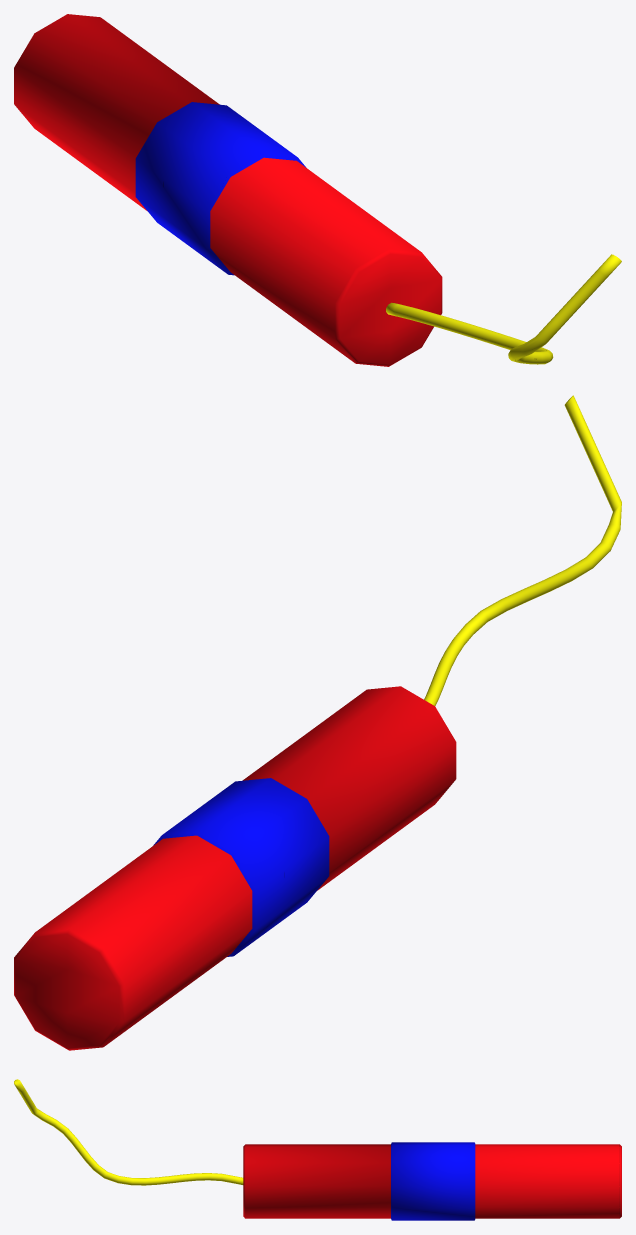
Rendered from Dynamite_lowPoly.fbx.
3 renders of one model, top to bottom at view 1: azimuth 30°, elevation 25°; view 2: azimuth 150°, elevation 25°; view 3: azimuth 270°, elevation 25°, orthographic. The views are drawn at different scales.
Visible parts, largest first — view 1: Dynamite Body Low Poly, Igniter; view 2: Dynamite Body Low Poly, Igniter; view 3: Dynamite Body Low Poly, Igniter.
Part boxes in pixels (x1,y1,x2,y2): Dynamite Body Low Poly: (14,14,442,366); Igniter: (386,254,621,364); Dynamite Body Low Poly: (14,686,456,1050); Igniter: (424,395,621,705); Dynamite Body Low Poly: (243,1142,621,1220); Igniter: (14,1079,243,1185).
Size of the model in its own units: 1 by 2.13 by 8.03.
1 material, 1 textured.
